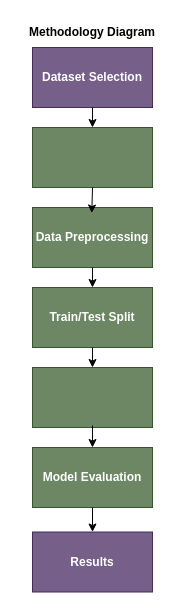
This 184x609 diagram has some shape labels left out. Each missing label, with the centre of its shape:
Data Loading: the point at 92,157
Model Training: the point at 92,397
